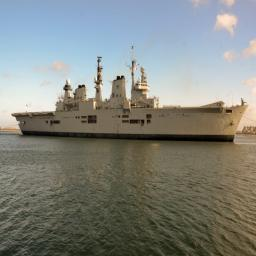Portanaves: (11, 44, 251, 144)
